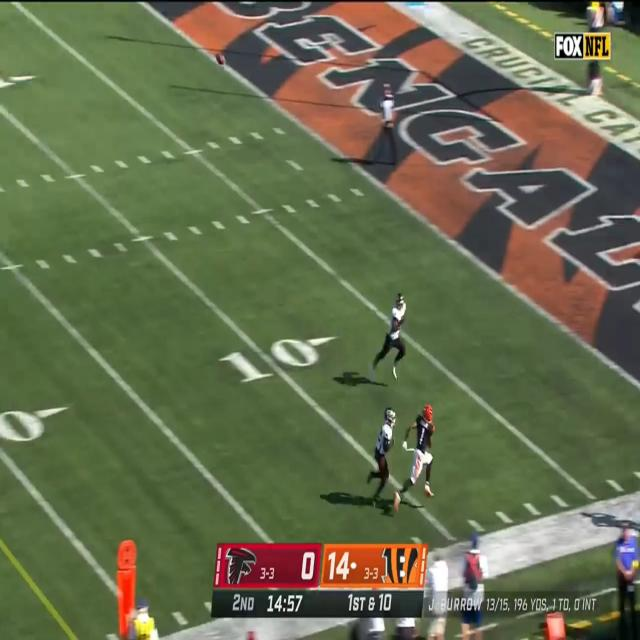Ball: (215, 52, 228, 67)
